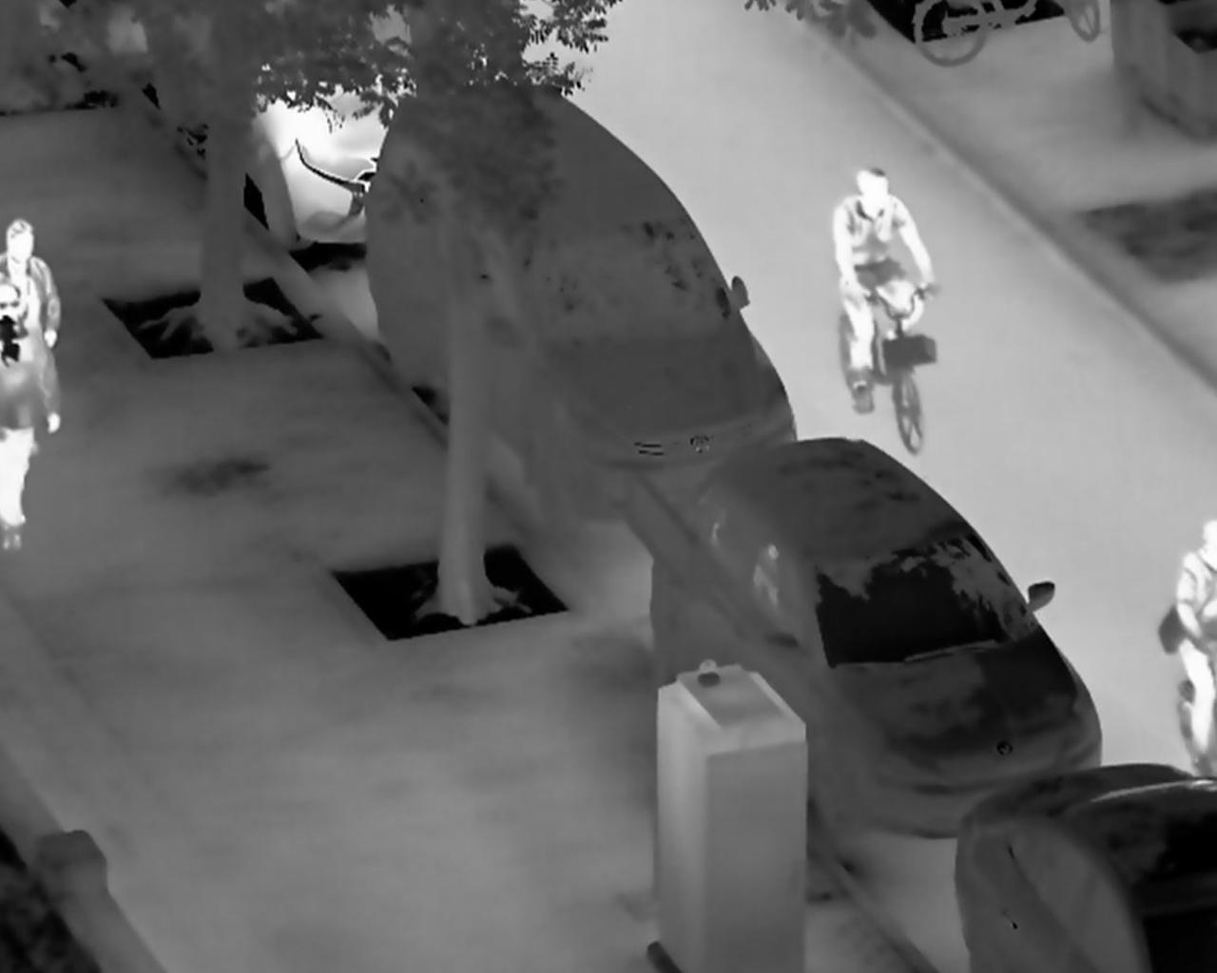person: (831, 162, 939, 419), (2, 279, 63, 555), (1174, 521, 1217, 780)
